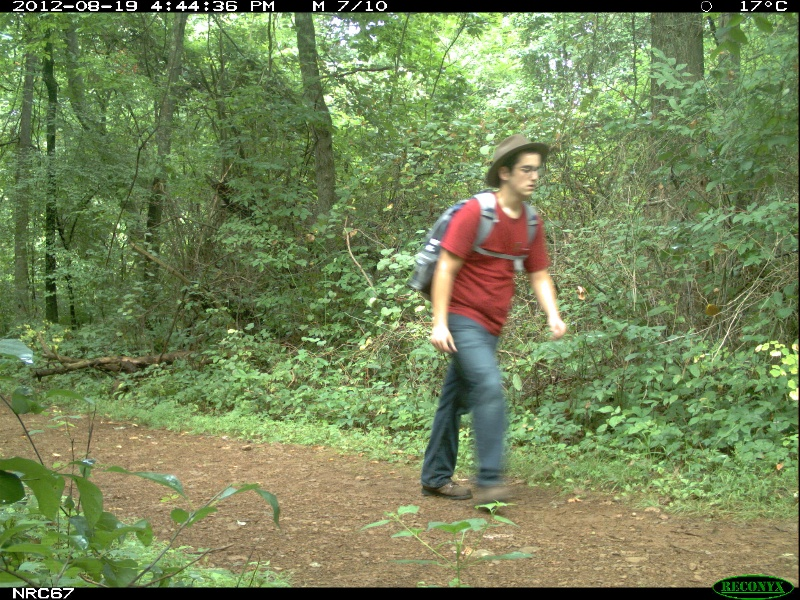human: (419, 138, 572, 506)
human face: (499, 151, 542, 198)
human legs: (419, 308, 515, 510)
